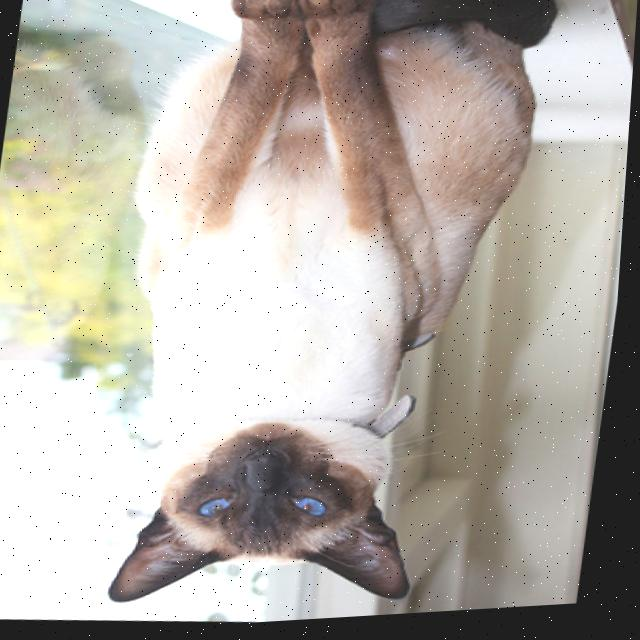Siamese: (78, 0, 573, 635)
